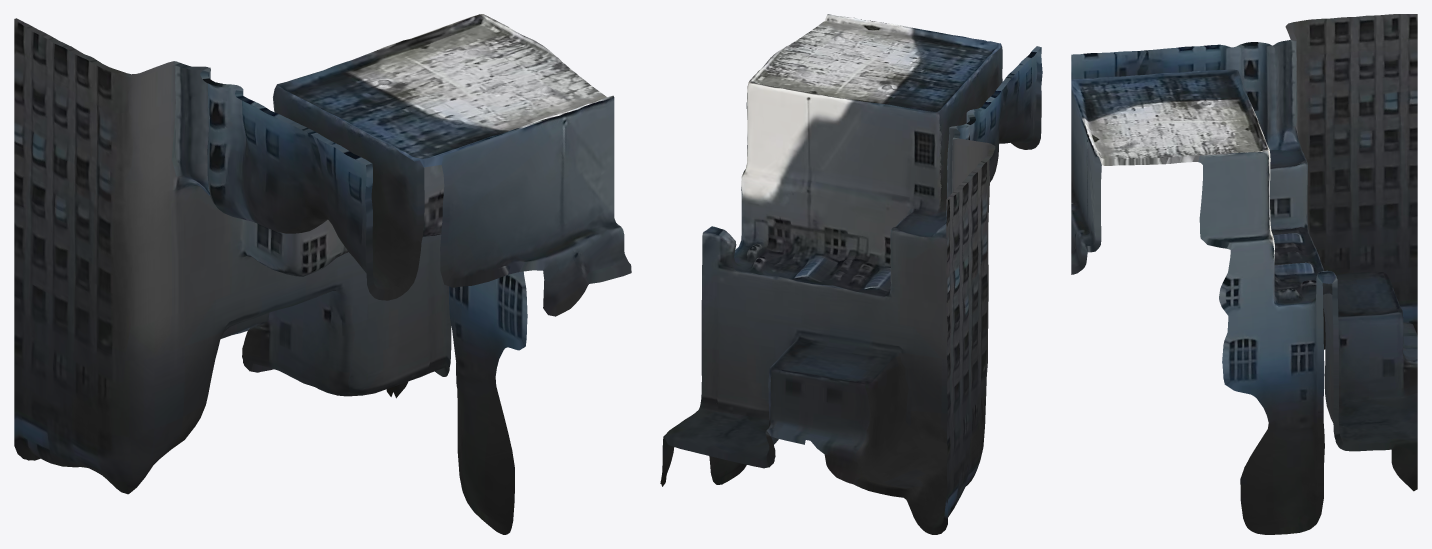
File: z20-167744-405246-h0-yup-uvflip-v3-world.glb
3 views of the same model, side by side, from view 1: azimuth 30°, elevation 25°; view 2: azimuth 150°, elevation 25°; view 3: azimuth 270°, elevation 25° (orthographic). The views are drawn at different scales.
Size of the model in its own units: 27.96 by 37.28 by 30.32.
1 material, 1 textured.
